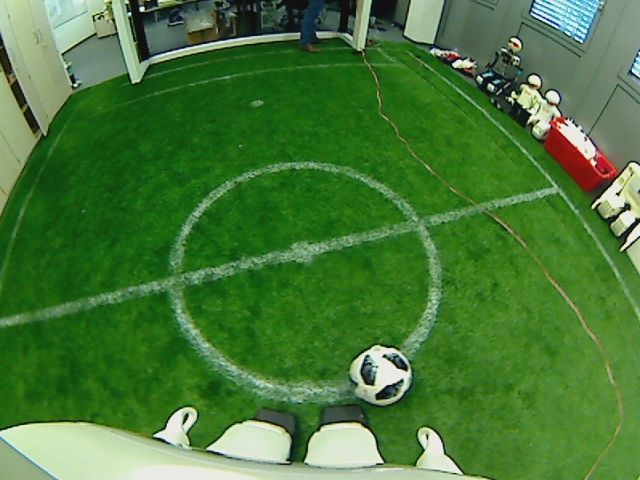ball: (349, 343, 411, 403)
